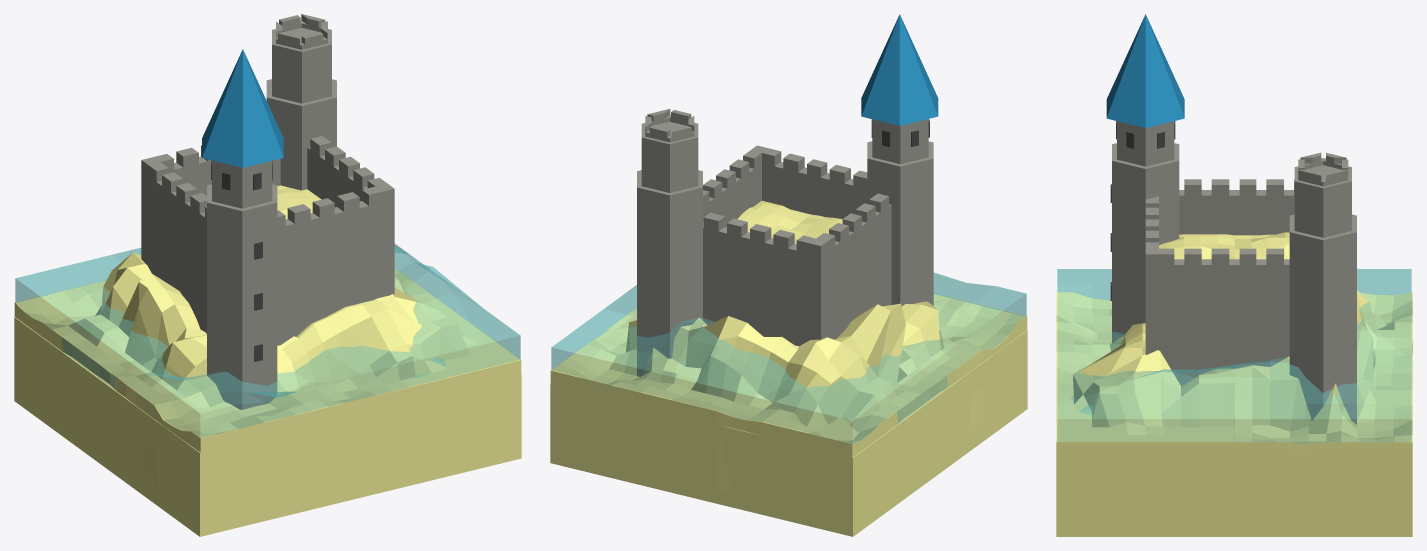
The model's file is Castle 1.fbx.
3 renders of one model, left to right at view 1: azimuth 30°, elevation 25°; view 2: azimuth 150°, elevation 25°; view 3: azimuth 270°, elevation 25°, orthographic. The views are drawn at different scales.
Parts seen in each view (by area): view 1: Cube_4_2, Cube_3_2, Cube_1, Cube_2, Cylinder_3, Cube_5_2, Cone, Cylinder, Cylinder_1, Cube_3, Cylinder_2, Cylinder_2_2 (+1 smaller); view 2: Cube_4_2, Cube_3_2, Cube_1, Cube_2, Cylinder, Cylinder_3, Cube_5_2, Cube_3, Cone, Cylinder_1, Cube, Cylinder_2 (+1 smaller); view 3: Cube_4_2, Cube_1, Cube_3_2, Cube_2, Cylinder, Cylinder_3, Cone, Cube_3, Cylinder_1, Cube_5_2, Cube, Cylinder_2 (+1 smaller).
Part boxes in pixels (<box>): Cube_4_2: <box>14,252,521,522</box>; Cube_3_2: <box>14,315,521,536</box>; Cube_1: <box>15,244,520,437</box>; Cube_2: <box>141,136,394,345</box>; Cylinder_3: <box>207,184,277,409</box>; Cube_5_2: <box>141,215,393,345</box>; Cone: <box>202,49,283,167</box>; Cylinder: <box>266,79,336,190</box>; Cylinder_1: <box>272,28,331,103</box>; Cube_3: <box>160,139,375,207</box>; Cylinder_2: <box>212,160,272,208</box>; Cylinder_2_2: <box>276,14,327,49</box>; Cube_4_2: <box>550,294,1027,522</box>; Cube_3_2: <box>550,330,1027,536</box>; Cube_1: <box>551,272,1026,443</box>; Cube_2: <box>703,145,891,345</box>; Cylinder: <box>637,170,702,376</box>; Cylinder_3: <box>867,141,933,306</box>; Cube_5_2: <box>703,269,853,345</box>; Cube_3: <box>703,153,867,226</box>; Cone: <box>861,14,938,125</box>; Cylinder_1: <box>641,121,698,192</box>; Cube: <box>737,201,842,243</box>; Cylinder_2: <box>872,119,928,164</box>; Cube_4_2: <box>1056,290,1412,456</box>; Cube_1: <box>1057,269,1411,443</box>; Cube_3_2: <box>1056,315,1412,536</box>; Cube_2: <box>1145,179,1294,385</box>; Cylinder: <box>1289,214,1356,424</box>; Cylinder_3: <box>1112,143,1179,342</box>; Cone: <box>1106,14,1184,127</box>; Cube_3: <box>1179,185,1294,235</box>; Cylinder_1: <box>1294,165,1351,237</box>; Cube_5_2: <box>1145,307,1289,384</box>; Cube: <box>1159,232,1289,259</box>; Cylinder_2: <box>1117,121,1174,166</box>.
Size of the model in its own units: 402 by 547 by 401.
